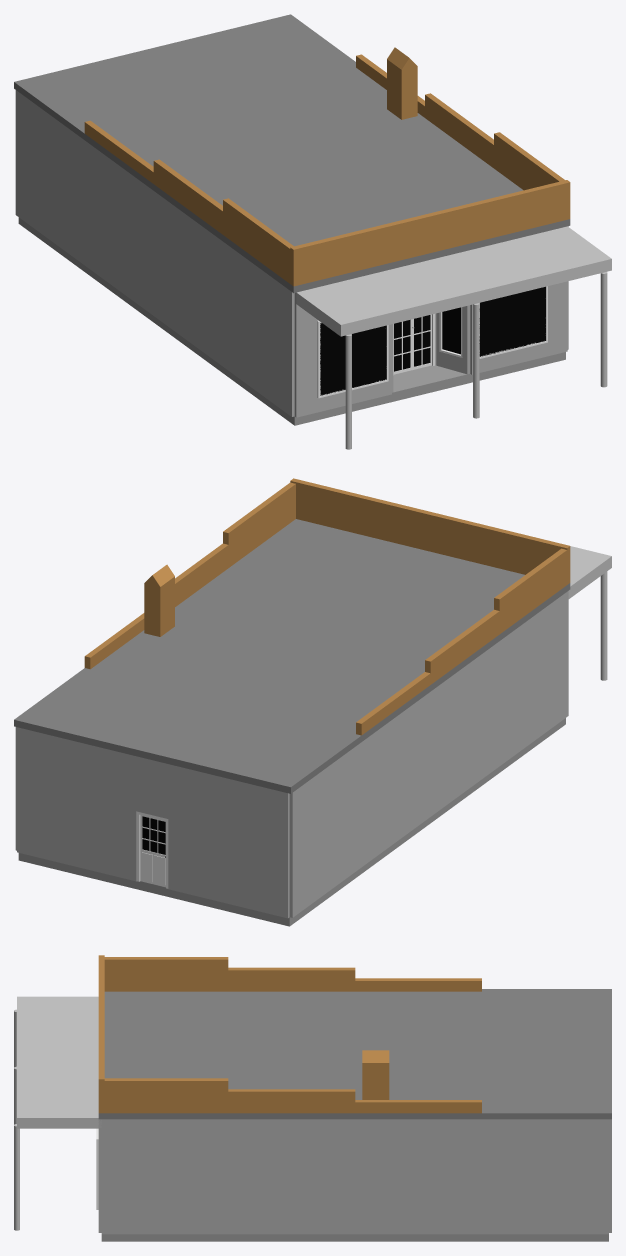
File: building_phase_1b_iter_028.glb
3 renders of one model, top to bottom at view 1: azimuth 30°, elevation 25°; view 2: azimuth 150°, elevation 25°; view 3: azimuth 270°, elevation 25°, orthographic. The views are drawn at different scales.
Visible parts, largest first — view 1: Roof, Wall_Left, Canopy_Roof, Parapet_Front, Wall_Front, Foundation, Front_Right_Window_Glass, Front_Left_Window_Glass, Parapet_Left_Level_1, Parapet_Right_Level_1, Parapet_Left_Level_2, Parapet_Right_Level_2 (+8 smaller); view 2: Roof, Wall_Left, Wall_Rear, Parapet_Front, Foundation, Parapet_Left_Level_1, Parapet_Right_Level_1, Parapet_Left_Level_2, Parapet_Right_Level_2, Chimney, Canopy_Roof, Parapet_Left_Level_3 (+2 smaller); view 3: Wall_Right, Roof, Canopy_Roof, Parapet_Right_Level_1, Parapet_Left_Level_1, Foundation, Parapet_Left_Level_2, Parapet_Right_Level_2, Parapet_Left_Level_3, Parapet_Right_Level_3, Parapet_Front, Chimney (+2 smaller).
Part boxes in pixels (bbox=[...]): Roof: bbox=[14, 14, 570, 293]; Wall_Left: bbox=[15, 90, 294, 416]; Canopy_Roof: bbox=[296, 226, 611, 336]; Parapet_Front: bbox=[290, 180, 570, 286]; Wall_Front: bbox=[294, 281, 567, 417]; Foundation: bbox=[18, 217, 565, 425]; Front_Right_Window_Glass: bbox=[479, 286, 545, 356]; Front_Left_Window_Glass: bbox=[320, 323, 386, 395]; Parapet_Left_Level_1: bbox=[223, 198, 293, 283]; Parapet_Right_Level_1: bbox=[494, 132, 564, 190]; Parapet_Left_Level_2: bbox=[153, 159, 222, 234]; Parapet_Right_Level_2: bbox=[425, 93, 493, 168]; Roof: bbox=[14, 519, 570, 793]; Wall_Left: bbox=[289, 591, 568, 917]; Wall_Rear: bbox=[17, 727, 289, 918]; Parapet_Front: bbox=[290, 478, 570, 584]; Foundation: bbox=[18, 718, 565, 926]; Parapet_Left_Level_1: bbox=[494, 548, 567, 633]; Parapet_Right_Level_1: bbox=[223, 482, 295, 567]; Parapet_Left_Level_2: bbox=[425, 609, 499, 684]; Parapet_Right_Level_2: bbox=[175, 543, 228, 606]; Chimney: bbox=[144, 576, 174, 636]; Canopy_Roof: bbox=[568, 546, 611, 598]; Parapet_Left_Level_3: bbox=[356, 672, 430, 735]; Wall_Right: bbox=[101, 1119, 608, 1234]; Roof: bbox=[98, 989, 611, 1119]; Canopy_Roof: bbox=[17, 996, 101, 1128]; Parapet_Right_Level_1: bbox=[101, 1078, 228, 1113]; Parapet_Left_Level_1: bbox=[104, 957, 228, 991]; Foundation: bbox=[101, 1234, 608, 1241]; Parapet_Left_Level_2: bbox=[228, 967, 355, 991]; Parapet_Right_Level_2: bbox=[228, 1089, 355, 1113]; Parapet_Left_Level_3: bbox=[355, 978, 481, 991]; Parapet_Right_Level_3: bbox=[355, 1100, 481, 1113]; Parapet_Front: bbox=[98, 955, 104, 1113]; Chimney: bbox=[362, 1063, 389, 1099].
Size of the model in its own units: 8.68 by 6.03 by 17.68.
